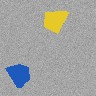climbing-hold: (44, 12, 69, 34), (6, 65, 30, 87)
